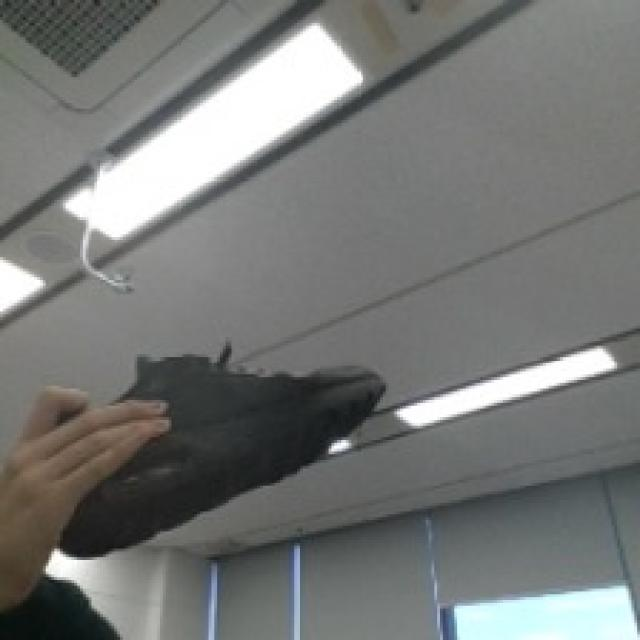shoe: (33, 306, 416, 564)
